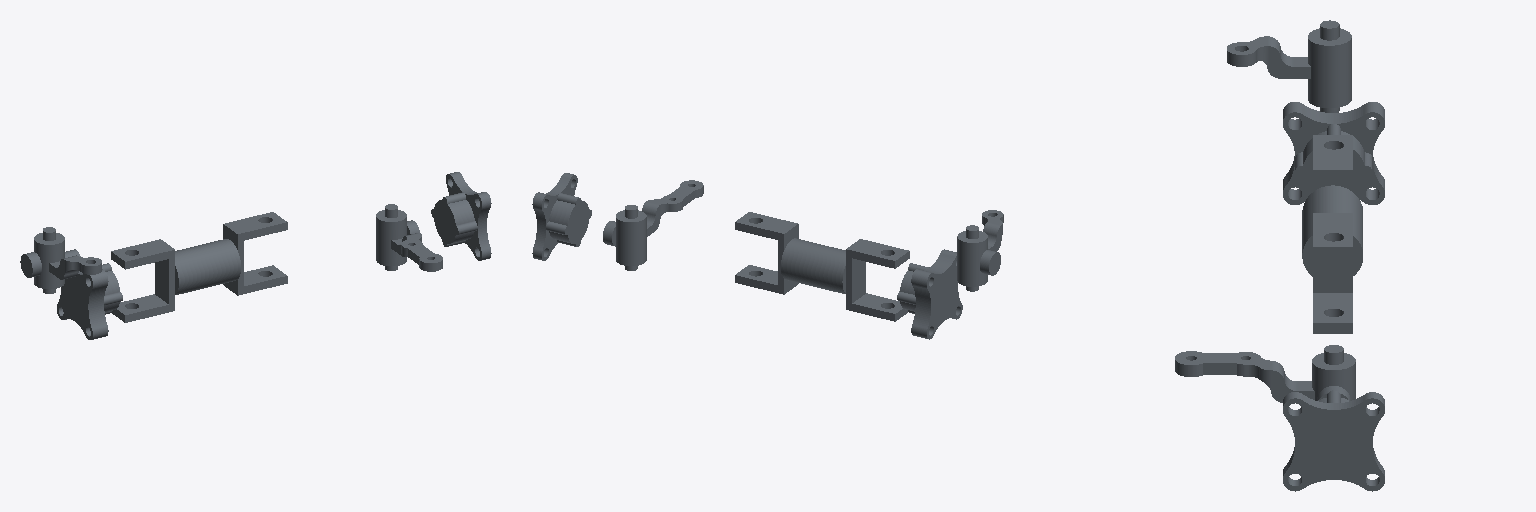
robot.urdf — Robot:
<?xml version="1.0" ?>
<robot name="Robot">
  <!--Generated by RobotCAD, a ROS Workbench for FreeCAD (https://github.com/drfenixion/freecad.robotcad)-->
  <link name="l_Front_left_steer001">
    <visual>
      <!--Front_left_steer001/Front_left_steer001.Simple___Front_wheel_steering_2_v3.Part__Feature001.-->
      <origin rpy="0 0 7.884953349999993e-08" xyz="-0.092 -0.00400001 0.084"/>
      <geometry>
        <mesh filename="package://Front/meshes/assem1_simplefrontwheelsteering2v3_vvsqon.dae"/>
      </geometry>
    </visual>
    <visual>
      <!--Front_left_steer001/Front_left_steer001.Simple___Front_wheel_steering_2_v3.Part__Feature002.-->
      <origin rpy="0 0 7.884953349999993e-08" xyz="-0.092 -0.00400001 0.084"/>
      <geometry>
        <mesh filename="package://Front/meshes/assem1_simplefrontwheelsteering2v004_0utofy.dae"/>
      </geometry>
    </visual>
    <collision>
      <!--col__l_Front_left_steer001__col_Front_left_steer__BoundBox/col_Front_left_steer__BoundBox.-->
      <origin rpy="0 0 7.884953349999993e-08" xyz="-0.00212565 -0.0400037 -0.047"/>
      <geometry>
        <box size="0.06874869806887428 0.12299110178847904 0.094"/>
      </geometry>
    </collision>
    <inertial>
      <mass value="1.167914780485022"/>
      <origin rpy="0 0 7.884953349999993e-08" xyz="-0.00173792 -0.0117858 -0.0445015"/>
      <inertia ixx="0.0012973987834853" ixy="0.0001134807129021" ixz="-2.86667132402e-05" iyy="0.0006620867674915" iyz="0.0001767721814122" izz="0.001048183410724"/>
    </inertial>
  </link>
  <link name="l_Front_left_roll001">
    <visual>
      <!--Front_left_roll001/Front_left_roll001.Part__Feature003.-->
      <origin rpy="-1.5707963267948966 -1.5707963267948961 0" xyz="0.0 -0.004 0.2515"/>
      <geometry>
        <mesh filename="package://Front/meshes/assem1_simplefrontwheelsteering2_rollingv1_tf9b4o.dae"/>
      </geometry>
    </visual>
    <collision>
      <!--col__l_Front_left_roll001__col_Front_left_roll__BoundBox/col_Front_left_roll__BoundBox.-->
      <origin rpy="-1.5707963267948966 -1.5707963267948961 0" xyz="0.0 0.0 -0.027765"/>
      <geometry>
        <box size="0.055529999999999975 0.1009968037218719 0.10099680372187192"/>
      </geometry>
    </collision>
    <inertial>
      <mass value="2.1838449851955253"/>
      <origin rpy="-1.5707963267948966 -1.5707963267948961 0" xyz="0.0 0.0 -0.0329126"/>
      <inertia ixx="0.0022937241477379" ixy="0.0" ixz="-0.0" iyy="0.0016708880718242" iyz="0.0" izz="0.0016708880718242"/>
    </inertial>
  </link>
  <link name="l_Front_right_steer001">
    <visual>
      <!--Front_right_steer001/Front_right_steer001.Simple___Front_wheel_steering_4_v4.Part__Feature004.-->
      <origin rpy="0 0 0" xyz="0.202 0.0 -0.108"/>
      <geometry>
        <mesh filename="package://Front/meshes/assem1_simplefrontwheelsteering4v4_5dlltd.dae"/>
      </geometry>
    </visual>
    <visual>
      <!--Front_right_steer001/Front_right_steer001.Simple___Front_wheel_steering_4_v4.Part__Feature005.-->
      <origin rpy="0 0 0" xyz="0.202 0.0 -0.108"/>
      <geometry>
        <mesh filename="package://Front/meshes/assem1_simplefrontwheelsteering4v005_n0txft.dae"/>
      </geometry>
    </visual>
    <collision>
      <!--col__l_Front_right_steer001__col_Front_right_steer__BoundBox/col_Front_right_steer__BoundBox.-->
      <origin rpy="0 0 0" xyz="0.00137654 -0.0675041 -0.047"/>
      <geometry>
        <box size="0.0702469287979083 0.17799183660103646 0.094"/>
      </geometry>
    </collision>
    <inertial>
      <mass value="1.314527369841654"/>
      <origin rpy="0 0 0" xyz="-0.000380064 -0.0244829 -0.0422821"/>
      <inertia ixx="0.0030858280301531" ixy="-0.0003948593899072" ixz="7.80985088388e-05" iyy="0.0007722469691076" iyz="0.0004726006639818" izz="0.0028389292941796"/>
    </inertial>
  </link>
  <link name="l_Front_right_roll001">
    <visual>
      <!--Front_right_roll001/Front_right_roll001.Part__Feature006.-->
      <origin rpy="-1.5707963267948968 -1.5707963267948961 0" xyz="0.0 -0.057 0.2145"/>
      <geometry>
        <mesh filename="package://Front/meshes/assem1_simplefrontwheelsteering4_rollingv1_lbo4yt.dae"/>
      </geometry>
    </visual>
    <collision>
      <!--col__l_Front_right_roll001__col_Front_right_roll__BoundBox/col_Front_right_roll__BoundBox.-->
      <origin rpy="-1.5707963267948968 -1.5707963267948961 0" xyz="0.0 0.0 0.02275"/>
      <geometry>
        <box size="0.0455 0.1009968037218719 0.10099680372187189"/>
      </geometry>
    </collision>
    <inertial>
      <mass value="1.6278357231918106"/>
      <origin rpy="-1.5707963267948968 -1.5707963267948961 0" xyz="0.0 0.0 0.0268895"/>
      <inertia ixx="0.0015496639998996" ixy="8.1e-15" ixz="1.4129e-12" iyy="0.0010625892590923" iyz="7.06e-14" izz="0.0010625892590536"/>
    </inertial>
  </link>
  <link name="l_Front_base001">
    <visual>
      <!--Front_base001/Front_base001.Simple___Front_wheel_steering_v6.Part__Feature.-->
      <origin rpy="0 0 0" xyz="0.0 0.0 0.0"/>
      <geometry>
        <mesh filename="package://Front/meshes/assem1_base_link_kshh9p.dae"/>
      </geometry>
    </visual>
    <collision>
      <!--col__l_Front_base001__col_Front_base__BoundBox/col_Front_base__BoundBox.-->
      <origin rpy="0 0 0" xyz="0.0 0.0 0.0"/>
      <geometry>
        <box size="0.26 0.059988959108482974 0.094"/>
      </geometry>
    </collision>
    <inertial>
      <mass value="3.722656813869633"/>
      <origin rpy="0 0 0" xyz="0.0 -3.24281e-05 0.0"/>
      <inertia ixx="0.0032149214833745" ixy="-0.0" ixz="0.0" iyy="0.0146624088118639" iyz="0.0" izz="0.0128697477693954"/>
    </inertial>
  </link>
  <joint name="left_steer" type="revolute">
    <parent link="l_Front_base001"/>
    <child link="l_Front_left_steer001"/>
    <origin rpy="0 0 -7.884953349999798e-08" xyz="-0.106921 0.00102633 0.048"/>
    <axis xyz="0 0 1"/>
    <limit effort="0.0" lower="0.0" upper="0.0" velocity="0.0"/>
  </joint>
  <joint name="left_roll" type="revolute">
    <parent link="l_Front_left_steer001"/>
    <child link="l_Front_left_roll001"/>
    <origin rpy="1.5707963267948941 0 1.5707964095331197" xyz="-0.0365 0.0 -0.047"/>
    <axis xyz="0 0 1"/>
    <limit effort="0.0" lower="0.0" upper="0.0" velocity="0.0"/>
  </joint>
  <joint name="right_steer" type="revolute">
    <parent link="l_Front_base001"/>
    <child link="l_Front_right_steer001"/>
    <origin rpy="0 0 7.884953349999798e-08" xyz="0.106921 0.00102633 0.047"/>
    <axis xyz="0 0 1"/>
    <limit effort="0.0" lower="0.0" upper="0.0" velocity="0.0"/>
  </joint>
  <joint name="right_roll" type="revolute">
    <parent link="l_Front_right_steer001"/>
    <child link="l_Front_right_roll001"/>
    <origin rpy="1.5707963267948966 8.221368918981396e-09 1.5707963362170076" xyz="0.0365 0.0 -0.047"/>
    <axis xyz="0 0 1"/>
    <limit effort="0.0" lower="0.0" upper="0.0" velocity="0.0"/>
  </joint>
</robot>

--- Render facts (derived) ---
The picture shows the robot from 3 angles, left to right: view 1: azimuth 30°, elevation 25°; view 2: azimuth 150°, elevation 25°; view 3: azimuth 270°, elevation 25°; orthographic projection.
Model Robot with 5 links and 4 joints (4 revolute), rooted at l_Front_base001, posed every joint at zero.
Visible links, largest first — view 1: l_Front_base001, l_Front_right_roll001, l_Front_left_roll001, l_Front_right_steer001, l_Front_left_steer001; view 2: l_Front_base001, l_Front_left_roll001, l_Front_right_steer001, l_Front_right_roll001, l_Front_left_steer001; view 3: l_Front_base001, l_Front_right_roll001, l_Front_left_roll001, l_Front_left_steer001, l_Front_right_steer001.
Link boxes in pixels (<box>): l_Front_base001: <box>111,212,287,322</box>; l_Front_right_roll001: <box>431,172,491,260</box>; l_Front_left_roll001: <box>57,249,122,339</box>; l_Front_right_steer001: <box>376,204,442,271</box>; l_Front_left_steer001: <box>20,227,101,293</box>; l_Front_base001: <box>735,212,909,321</box>; l_Front_left_roll001: <box>897,249,962,339</box>; l_Front_right_steer001: <box>603,180,703,270</box>; l_Front_right_roll001: <box>532,173,591,260</box>; l_Front_left_steer001: <box>957,210,1003,291</box>; l_Front_base001: <box>1302,135,1362,333</box>; l_Front_right_roll001: <box>1283,390,1384,491</box>; l_Front_left_roll001: <box>1283,102,1384,204</box>; l_Front_left_steer001: <box>1227,20,1351,112</box>; l_Front_right_steer001: <box>1175,345,1355,402</box>.
Size in the robot's own frame: 0.7183 by 0.207 by 0.189 metres.
7 mesh visuals loaded from 7 distinct referenced files (7 Collada DAE).